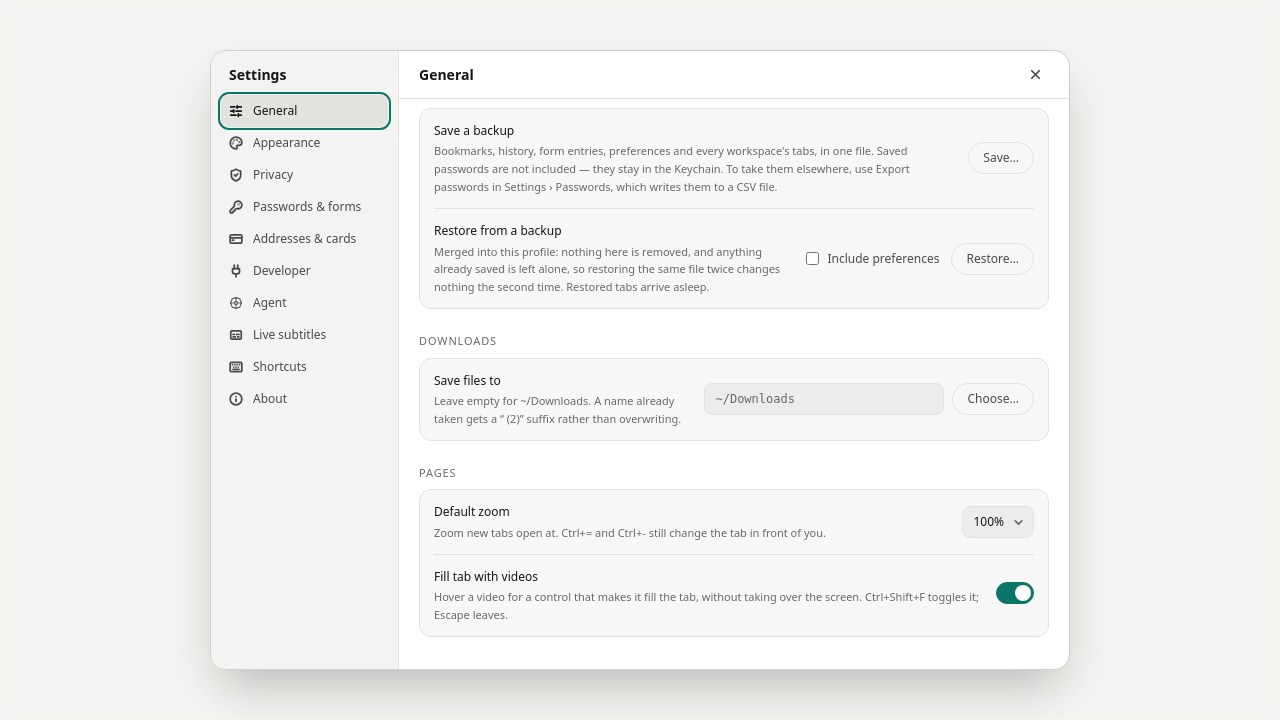
Test: SettingsDialog › shows the host's value once a commit settles, not what was typed
(page scrolled)
In the field labelled "Save files to": x=824, y=399 [704,383,944,415], type "Downloads/dive"
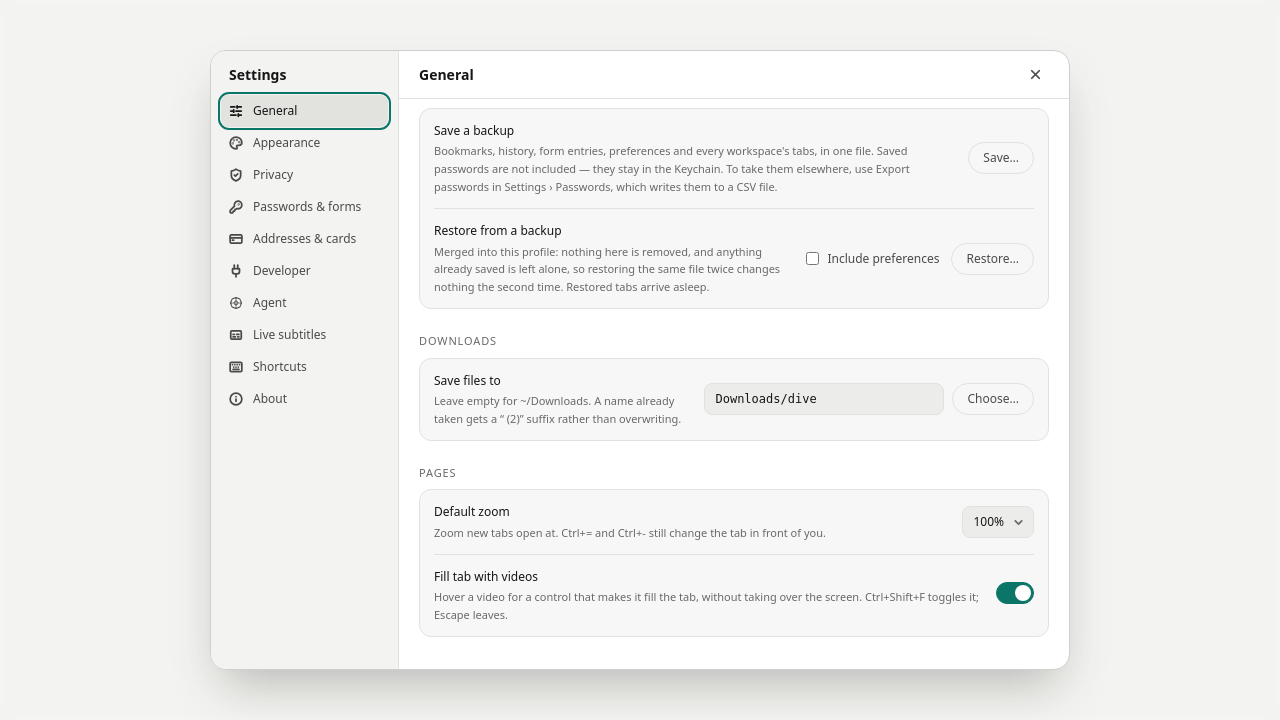
Leave the field labelled "Save files to", box [704,383,944,415]
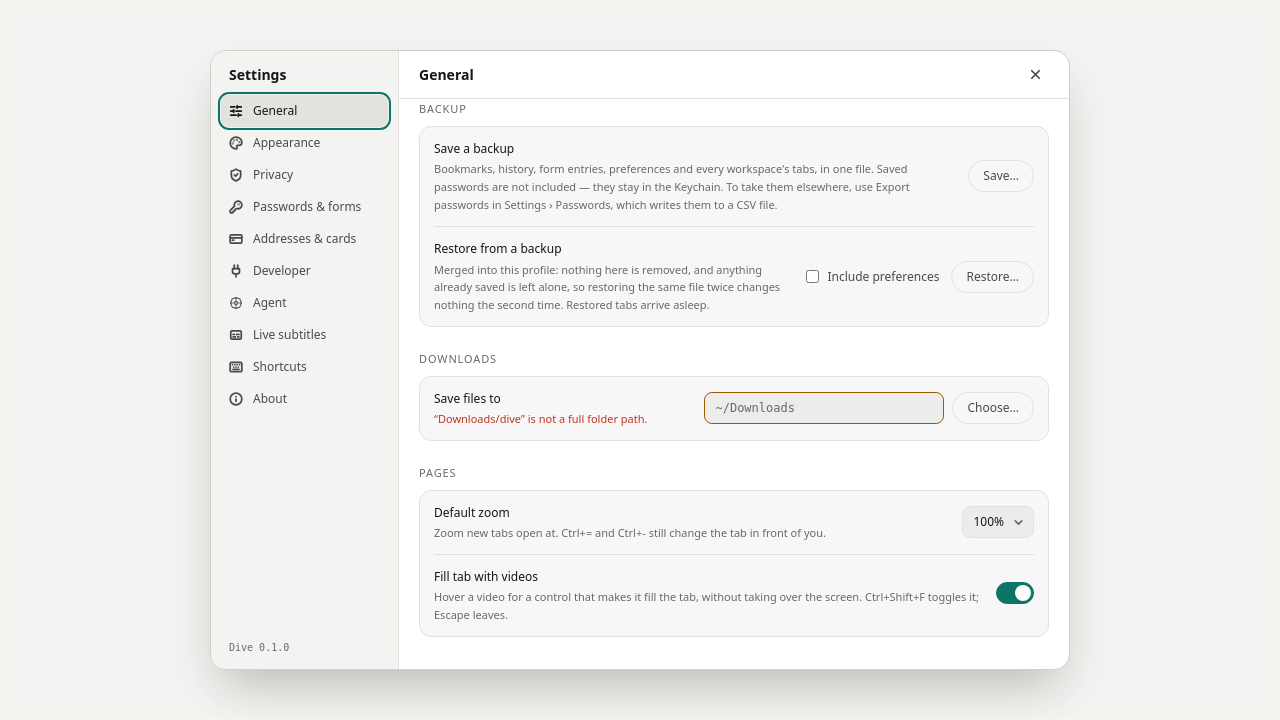
Check: the text "“Downloads/dive” is not a full folder path." is shown, box [434,411,648,426]
Check: the field labelled "Save files to" is empty, box [704,392,944,424]
